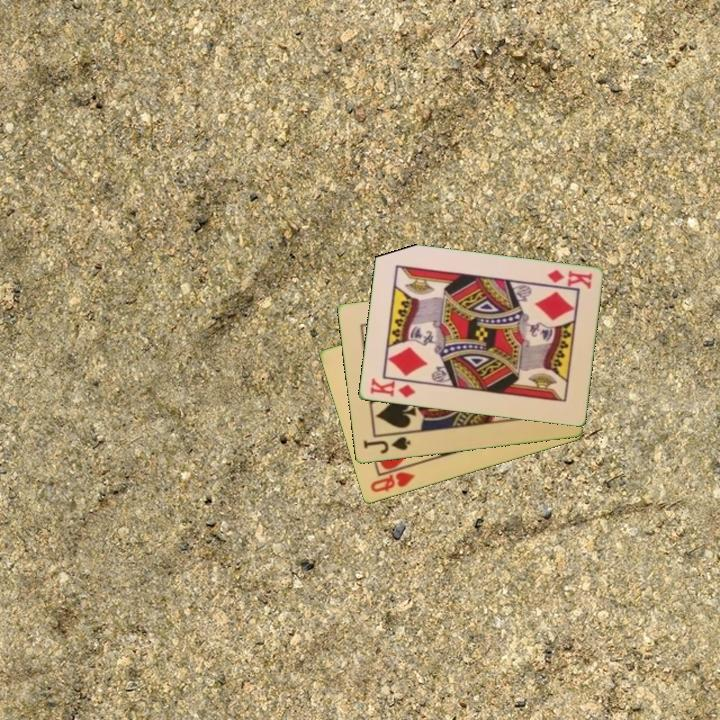Js: (359, 434, 413, 457)
Kd: (366, 375, 418, 401), (543, 266, 595, 292)
Qh: (367, 468, 418, 496)
